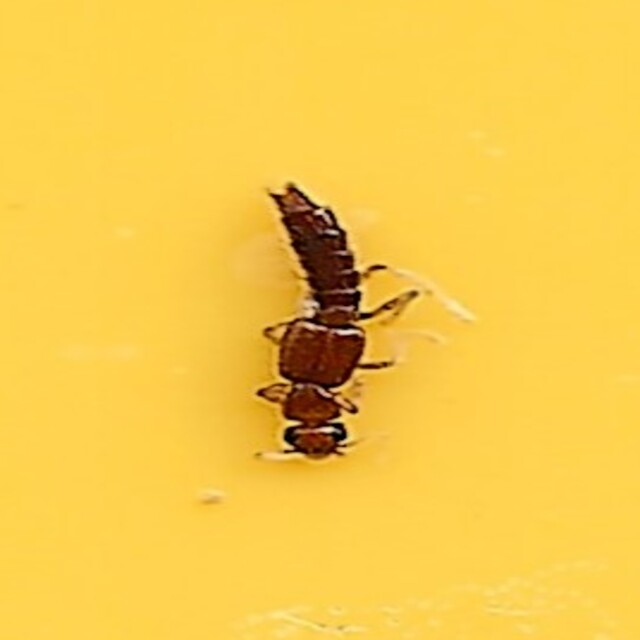Coleoptera: (239, 169, 401, 471)
